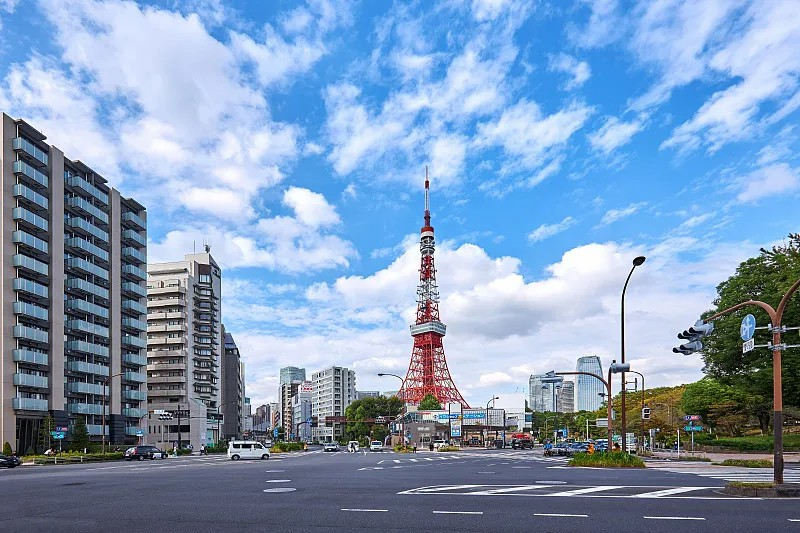Tokyo: (396, 160, 473, 410)
